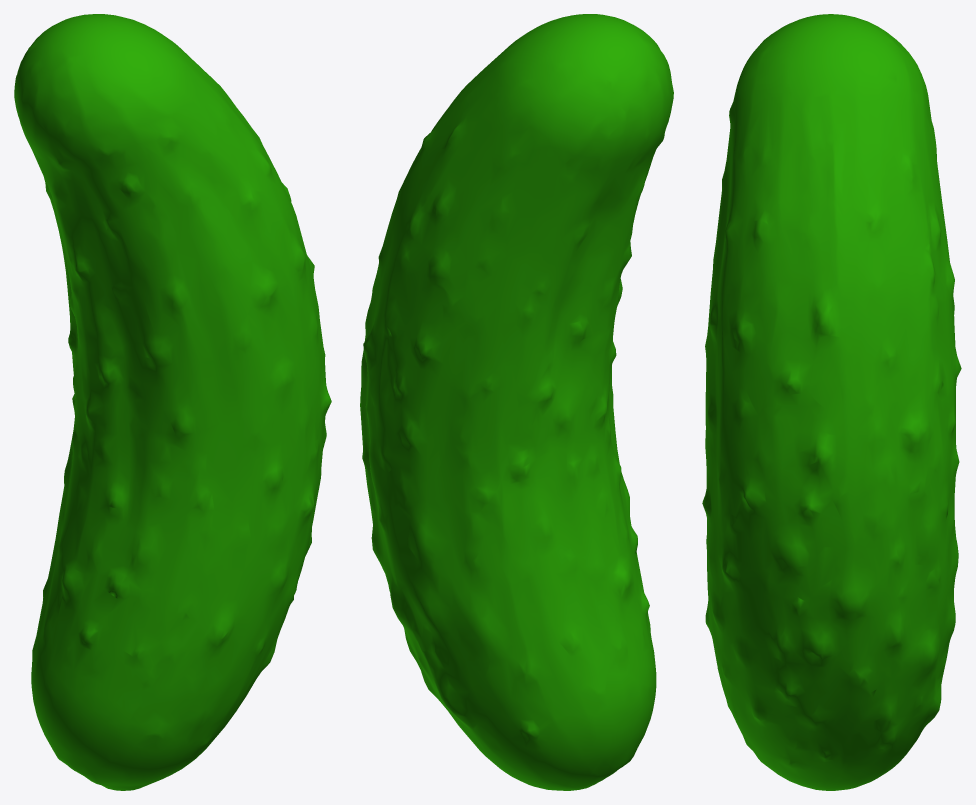
File: pickle.glb
3 renders of one model, left to right at view 1: azimuth 30°, elevation 25°; view 2: azimuth 150°, elevation 25°; view 3: azimuth 270°, elevation 25°, orthographic. The views are drawn at different scales.
Visible parts, largest first — view 1: pickle_updated; view 2: pickle_updated; view 3: pickle_updated.
Part boxes in pixels (x1=…): pickle_updated: x1=14, y1=14, x2=331, y2=790; pickle_updated: x1=360, y1=14, x2=673, y2=790; pickle_updated: x1=702, y1=14, x2=961, y2=790.
Size of the model in its own units: 0.9179 by 2.35 by 0.7402.
